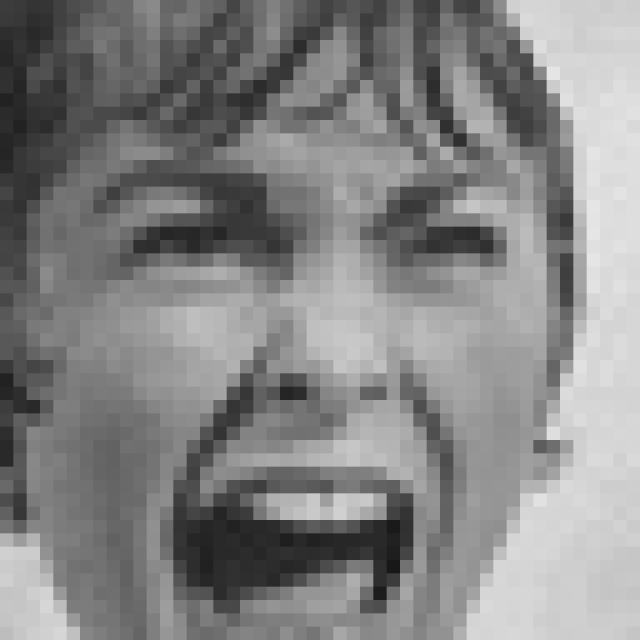fear: (81, 156, 528, 640)
